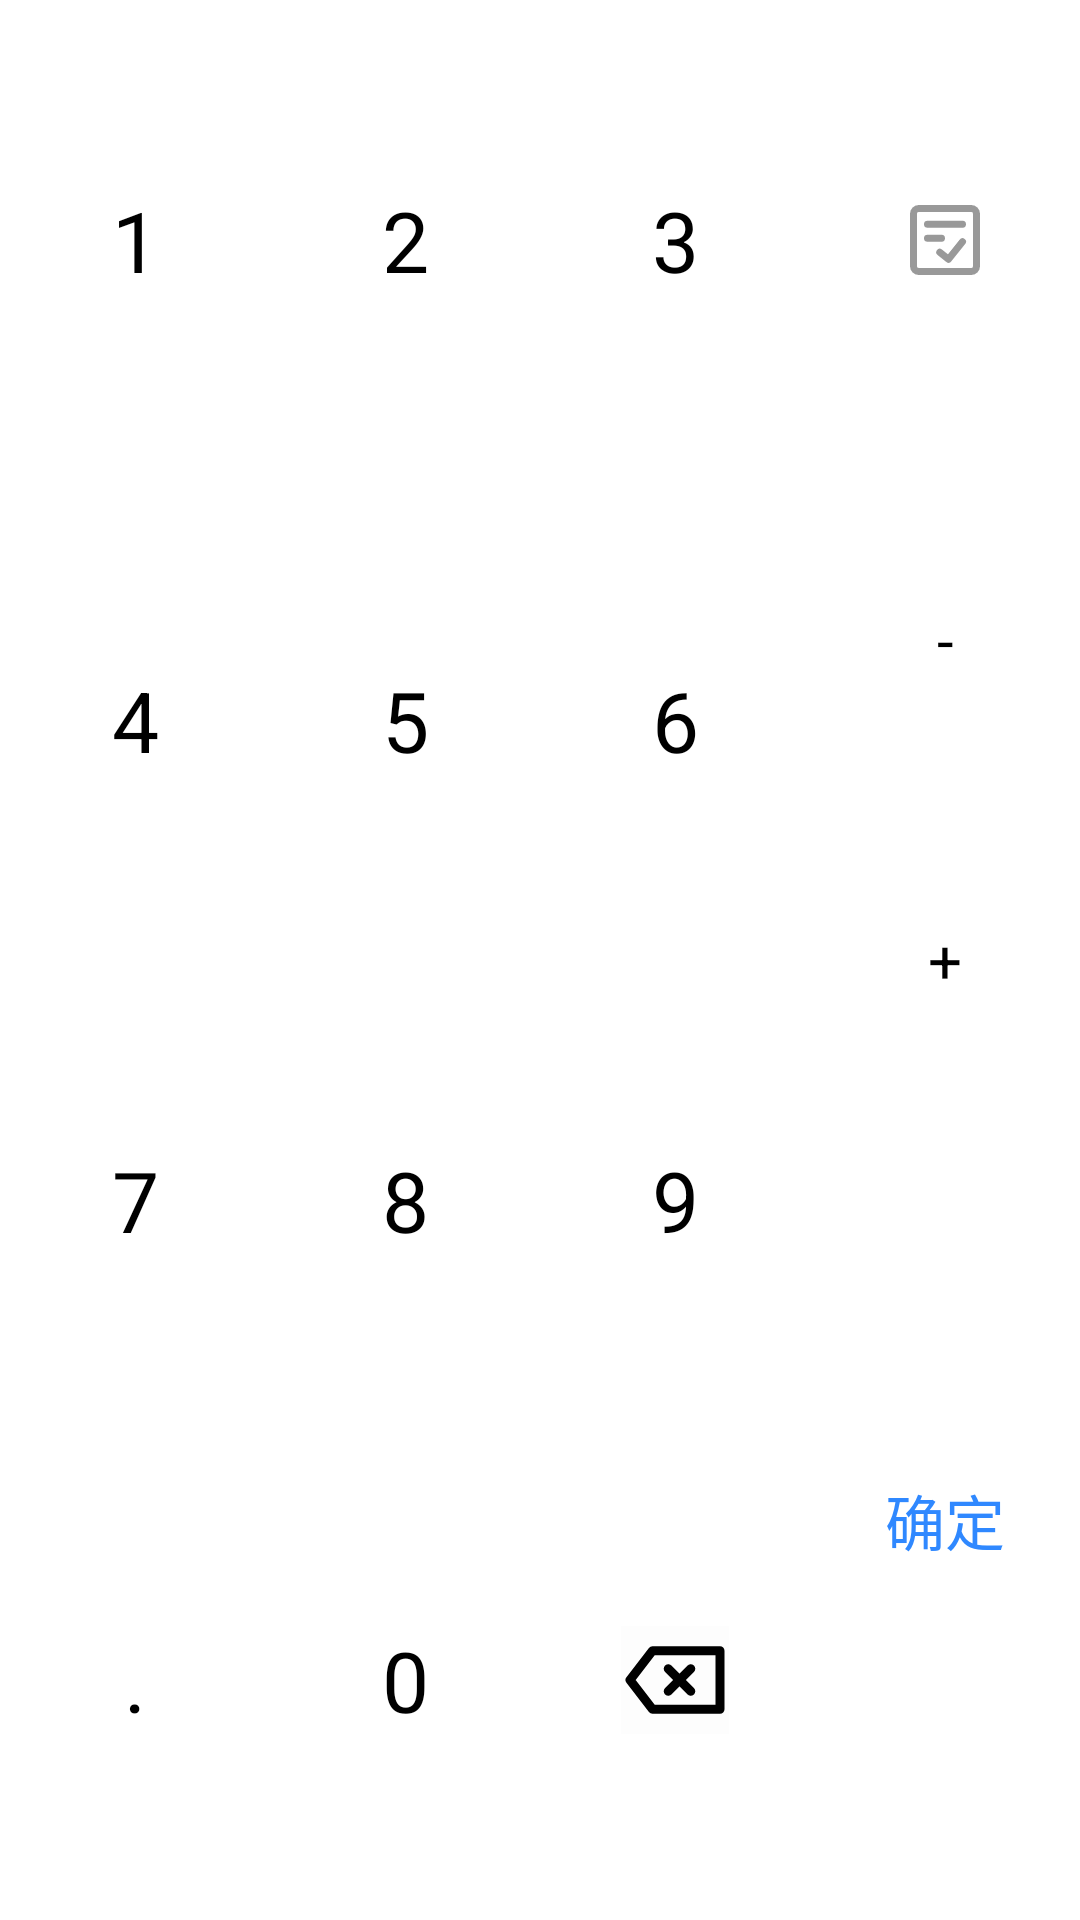

Screen size 1080px x 1920px. Icon name, then its center in pixels as point (x, y):
delete: point (675, 1680)
